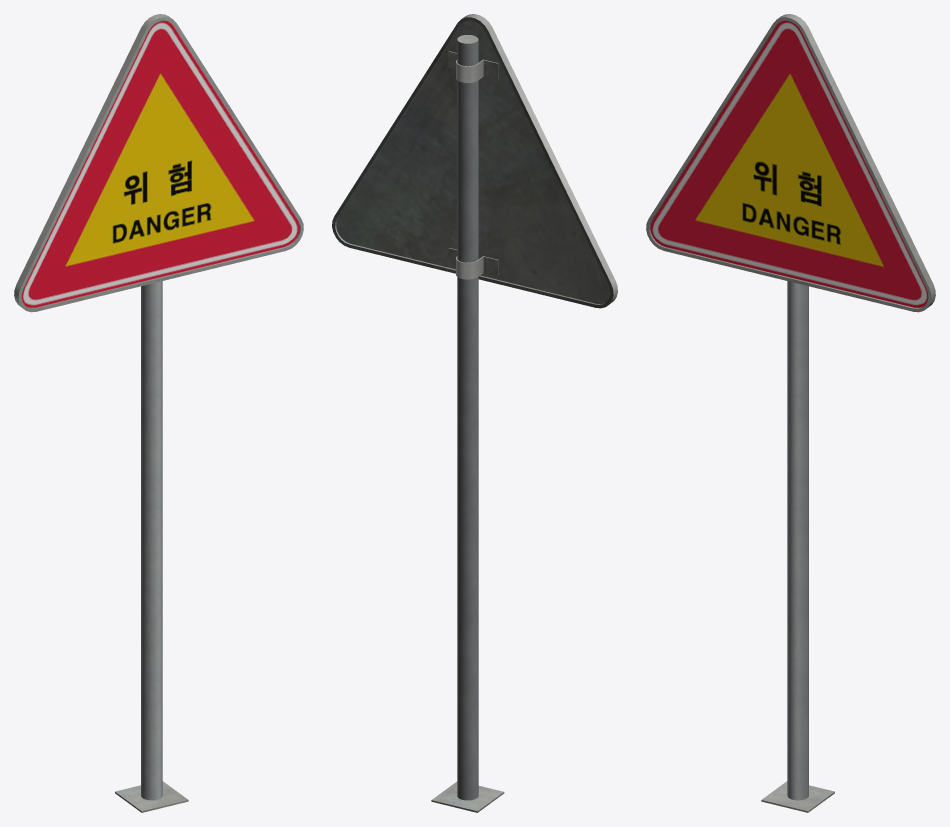
The picture shows the model from 3 angles, left to right: view 1: azimuth 30°, elevation 25°; view 2: azimuth 150°, elevation 25°; view 3: azimuth 330°, elevation 25°; orthographic projection.
Visible parts, largest first — view 1: MainBuilding; view 2: MainBuilding; view 3: MainBuilding.
Part boxes in pixels (bbox=[...]): MainBuilding: bbox=[14, 14, 303, 812]; MainBuilding: bbox=[332, 14, 617, 812]; MainBuilding: bbox=[646, 14, 935, 812].
Bounding box in the file's own units: 0.9151 × 2.41 × 0.15.
Materials: 1 (1 with a texture image).
